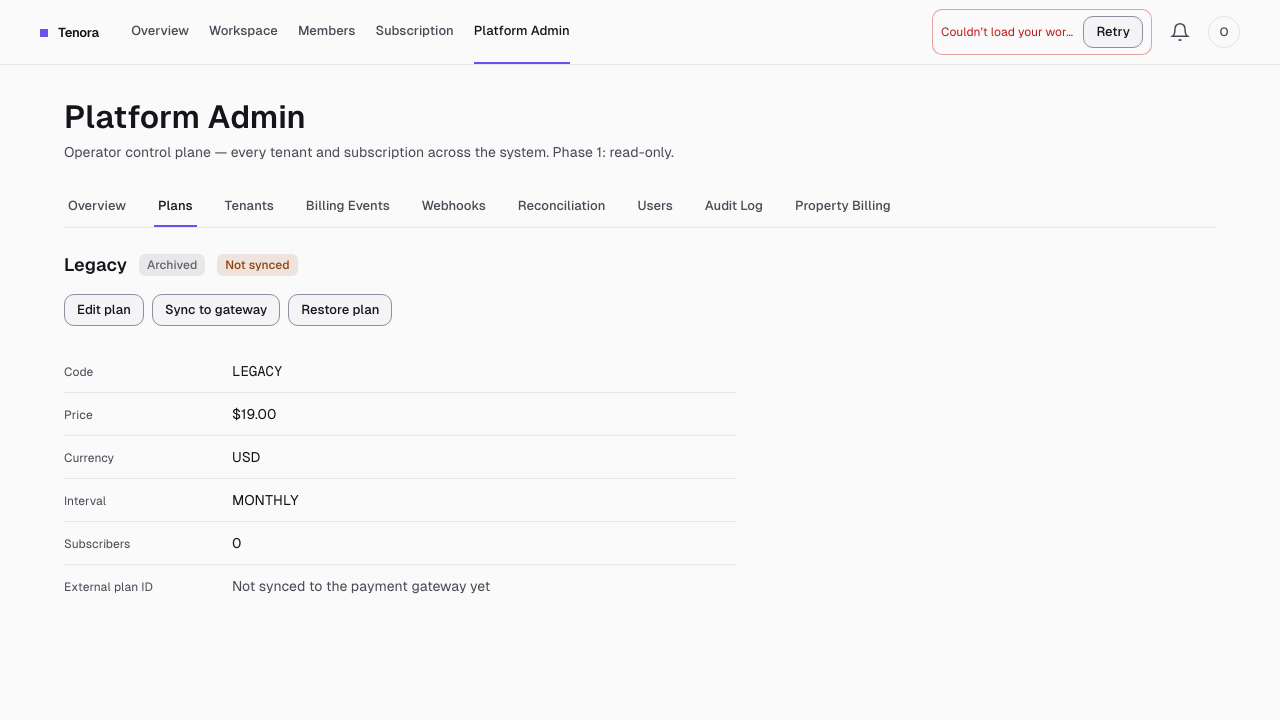
Test: PlanDetailPage — operator actions (Phase 3) › reports an already-synced no-op honestly
This screenshot has width=1280, height=720.
expect the heading "Legacy" is shown: met, box [64,252,127,278]
Click the button "Sync to gateway" at (216, 310), box [152,294,280,326]
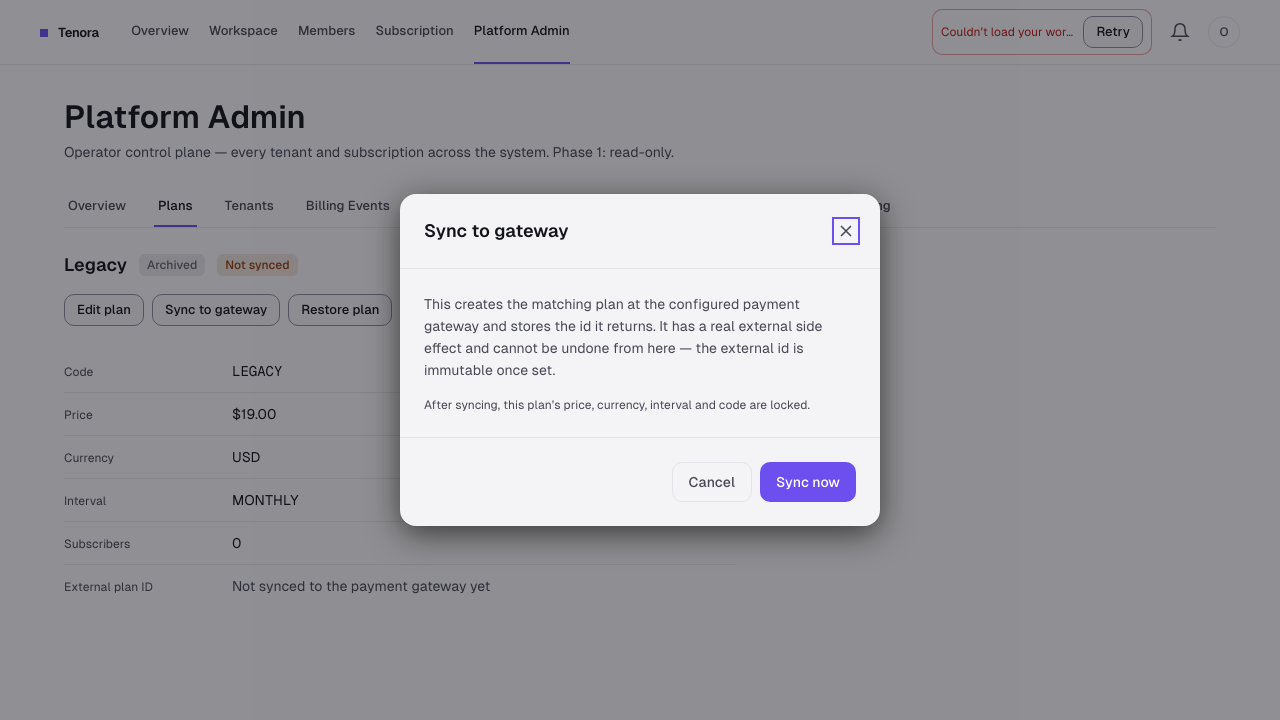
expect the dialog is shown: met, box [400,194,880,526]
Click the button "Sync now" at (808, 482), box [760,462,856,502]
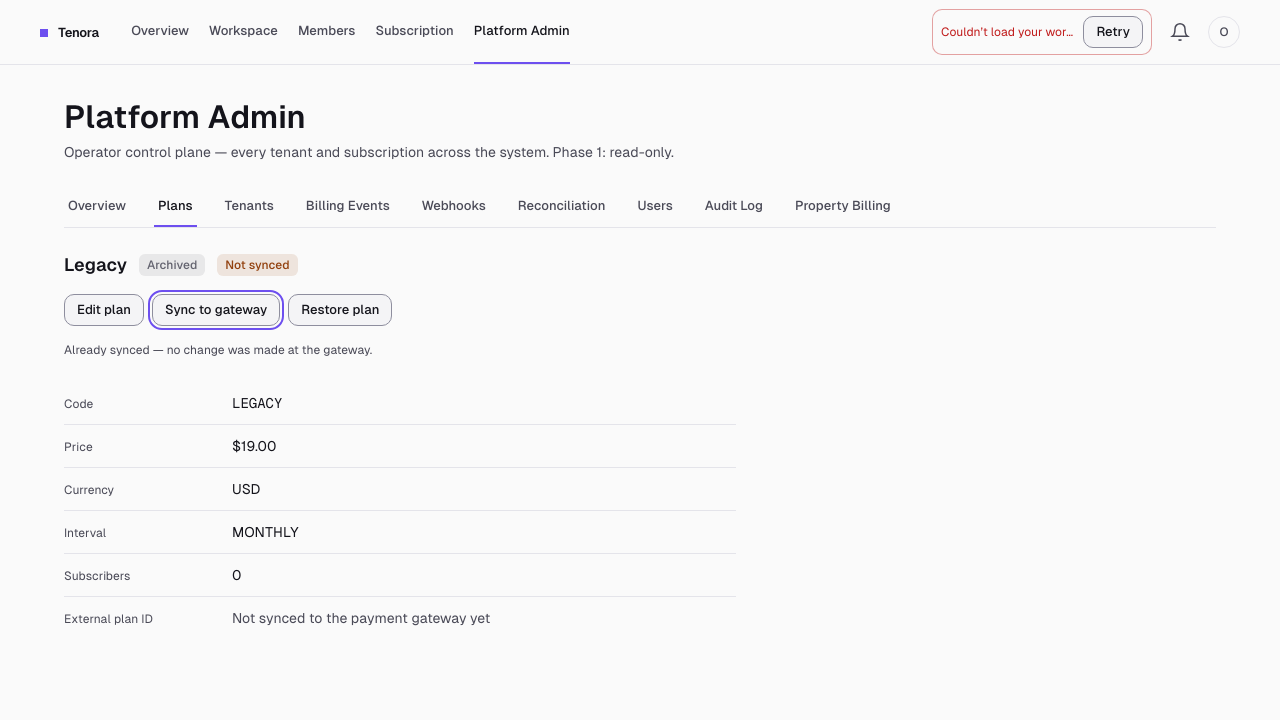
expect the text "Already synced — no change was made at the gateway." is shown: met, box [64,343,372,357]
